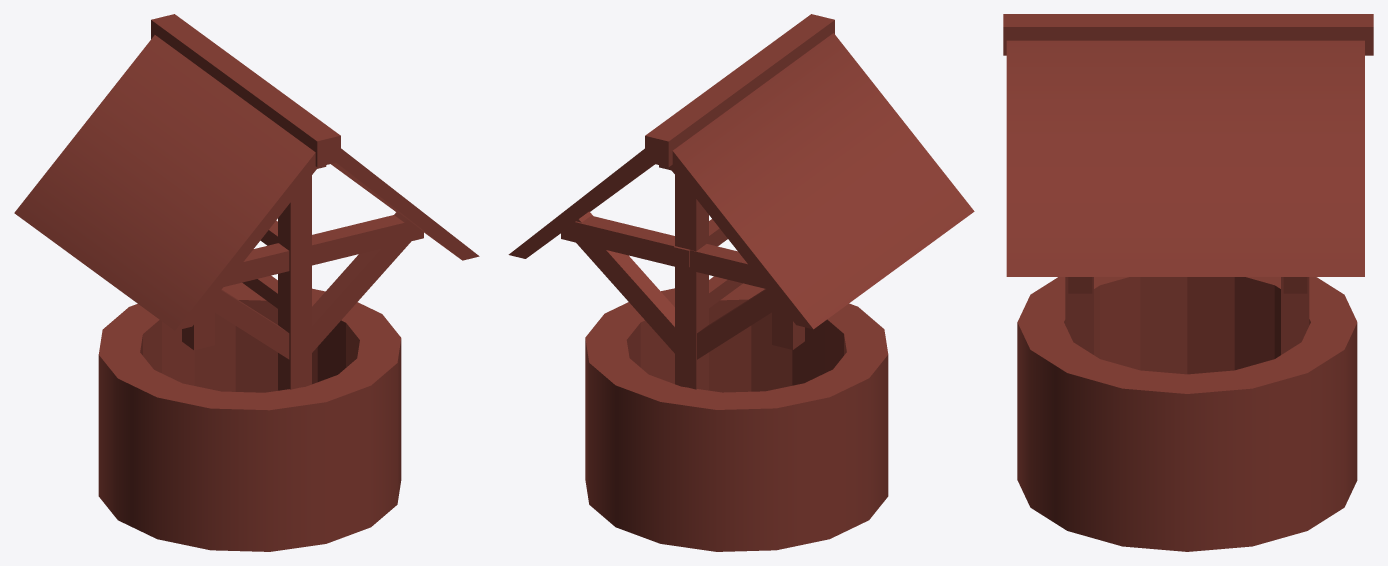
Rendered from will.fbx.
3 renders of one model, left to right at view 1: azimuth 30°, elevation 25°; view 2: azimuth 150°, elevation 25°; view 3: azimuth 270°, elevation 25°, orthographic. The views are drawn at different scales.
Parts seen in each view (by area): view 1: will; view 2: will; view 3: will.
Part boxes in pixels (bbox=[...]): will: bbox=[14, 14, 479, 551]; will: bbox=[508, 14, 974, 551]; will: bbox=[1003, 14, 1373, 551].
Bounding box in the file's own units: 489 × 630 × 462.
